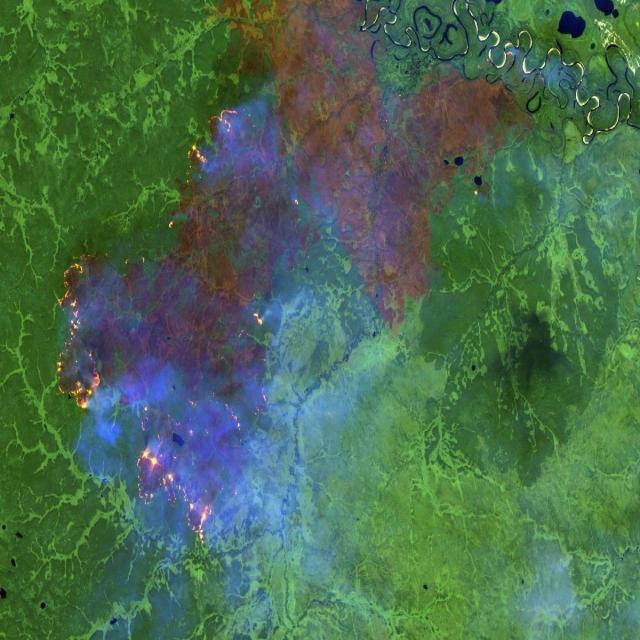fire: (52, 98, 285, 564)
